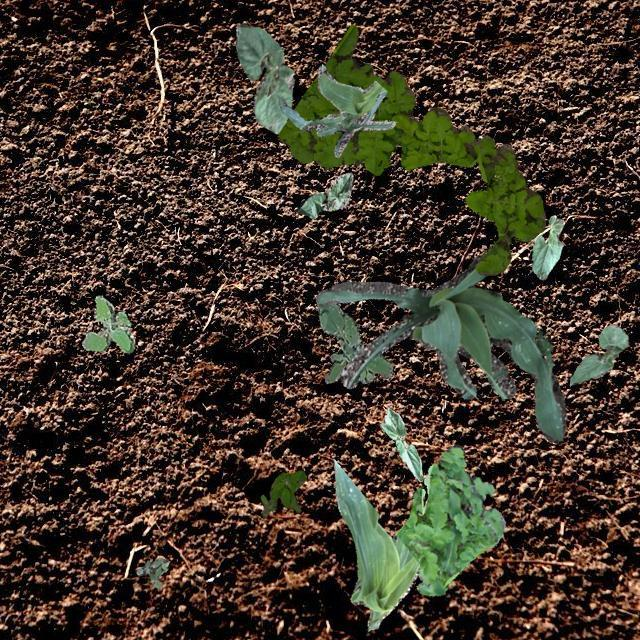crop: (314, 254, 564, 440), (332, 458, 418, 630), (278, 64, 394, 156), (234, 23, 294, 132), (568, 324, 628, 384), (379, 406, 421, 481), (296, 172, 352, 218), (532, 214, 564, 278)
weed: (278, 23, 544, 274), (394, 444, 504, 594), (316, 302, 392, 382), (80, 294, 134, 352), (260, 469, 306, 516), (136, 556, 168, 588)
